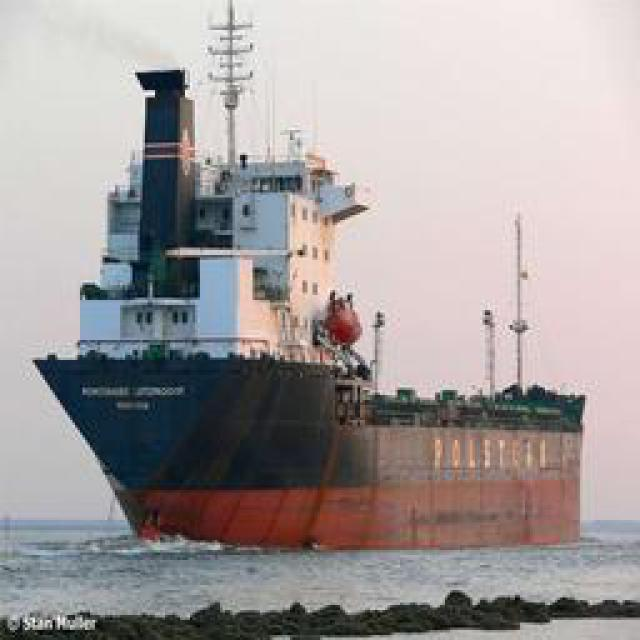Ship: (18, 95, 590, 559)
